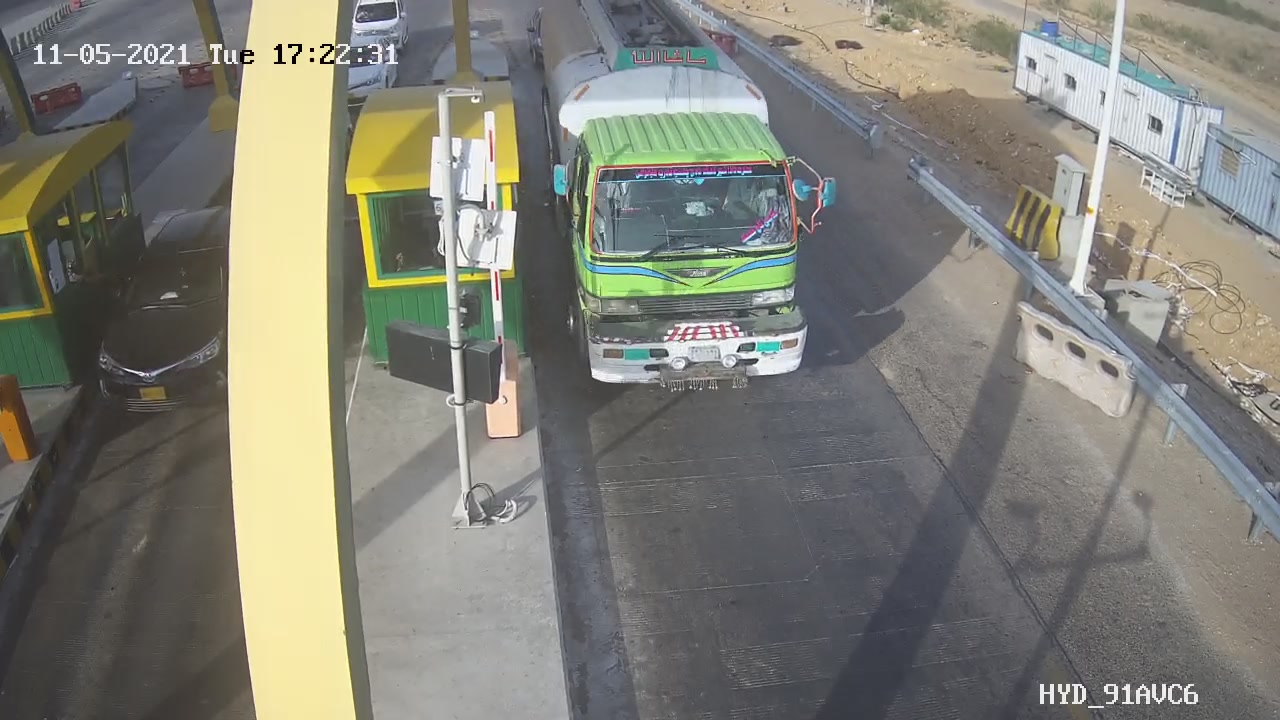F6: (518, 1, 864, 414)
